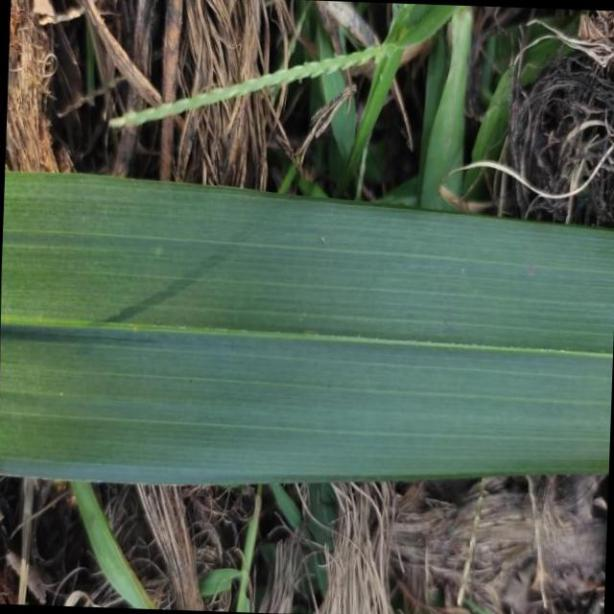Healthy: (1, 168, 614, 480)
